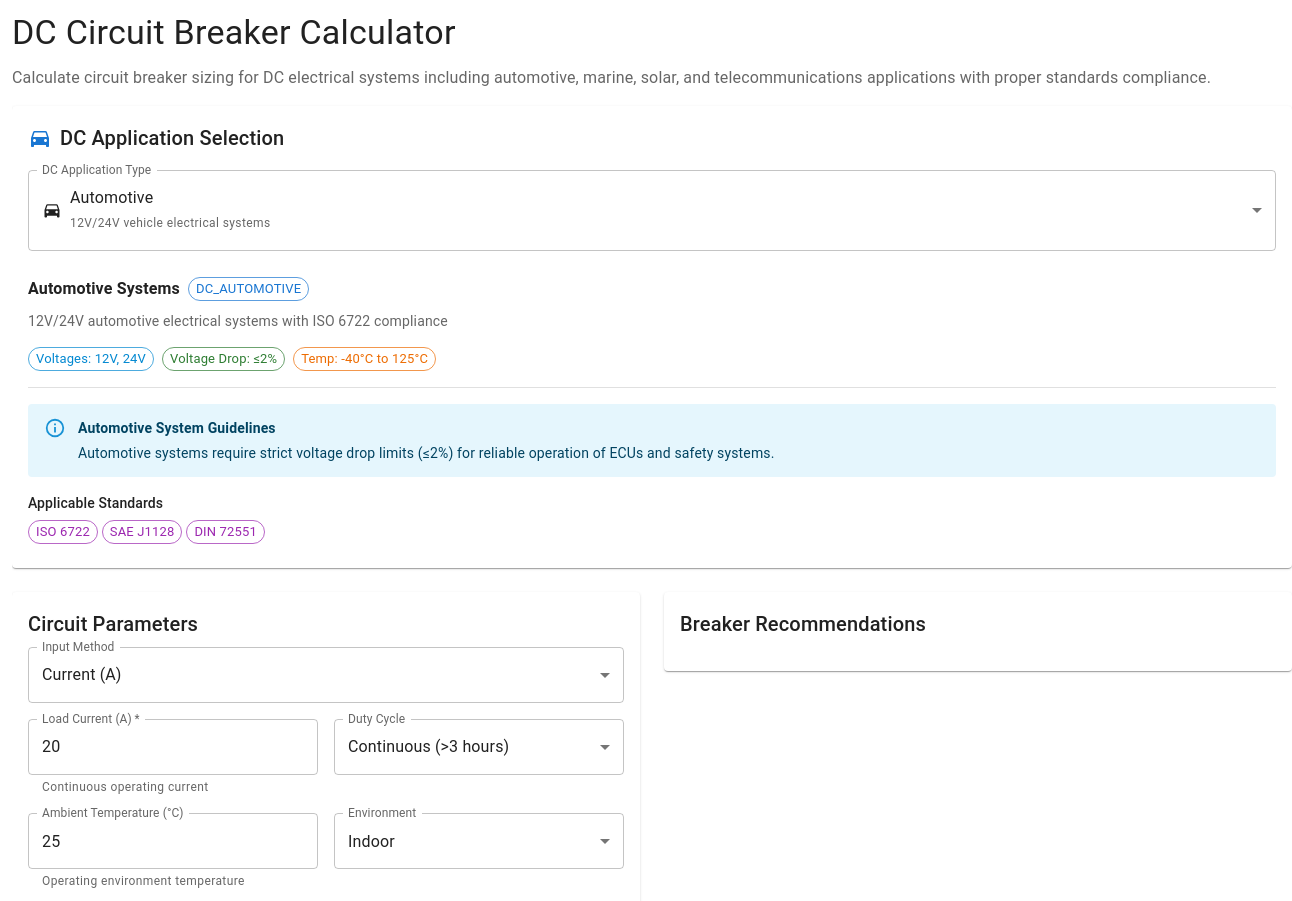
Test case: DC Breaker Calculator › Power-Based Input Method › should allow switching between input methods
The image size is (1292, 901).
Expected: the heading "DC Circuit Breaker Calculator" is shown, [12,12,456,52]
Expected: the text "Load Current (A)" is shown, [42,711,132,725]
Replace the text in the field labelled "Current (A)" with "power" at (326, 675), box [28,647,624,703]
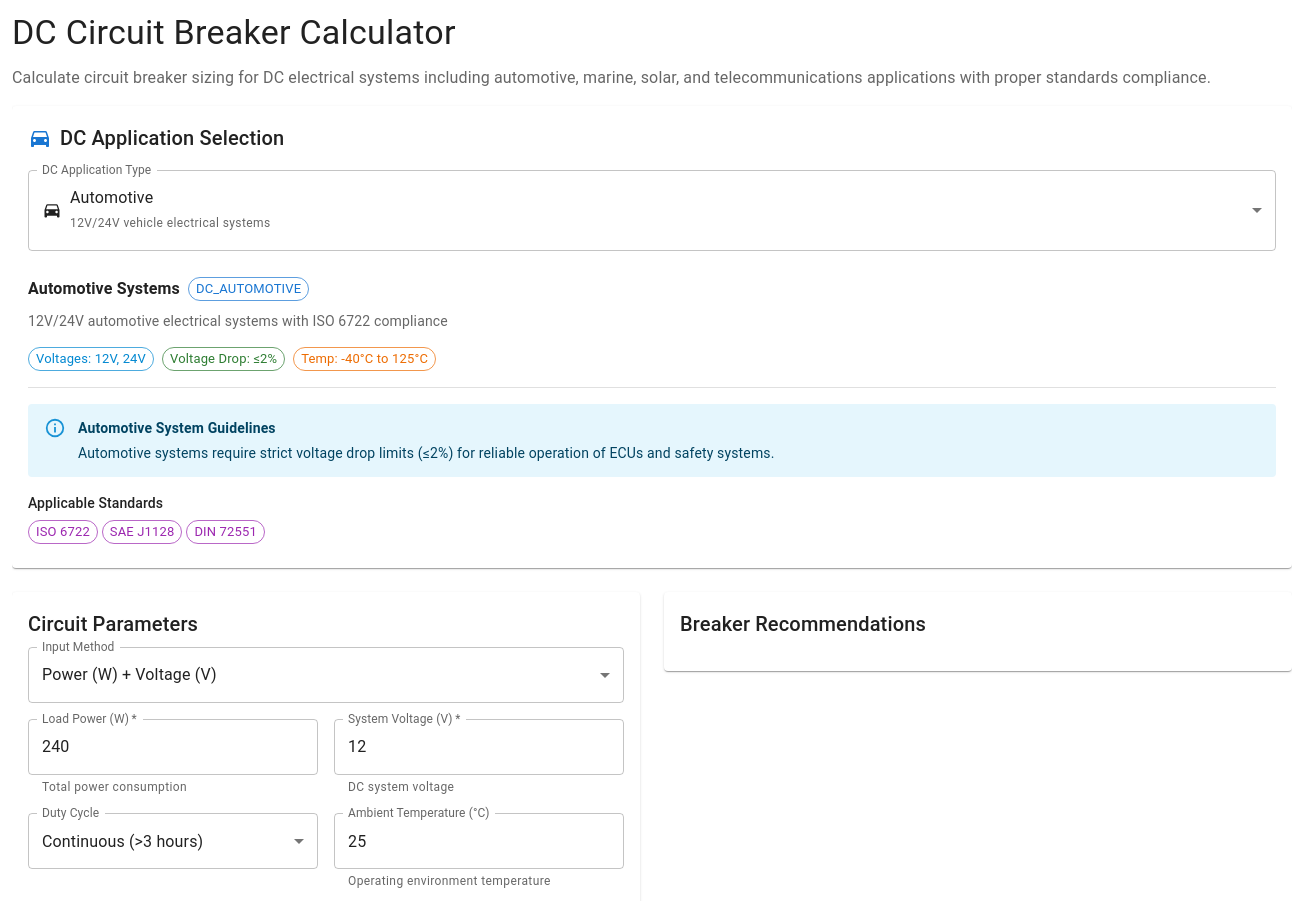
Now the text "Load Power (W)" is shown, box [42,711,129,725]
Now the text "System Voltage (V)" is shown, box [348,711,453,725]
Replace the text in the field labelled "Power (W) + Voltage (V)" with "current" at (326, 675), box [28,647,624,703]
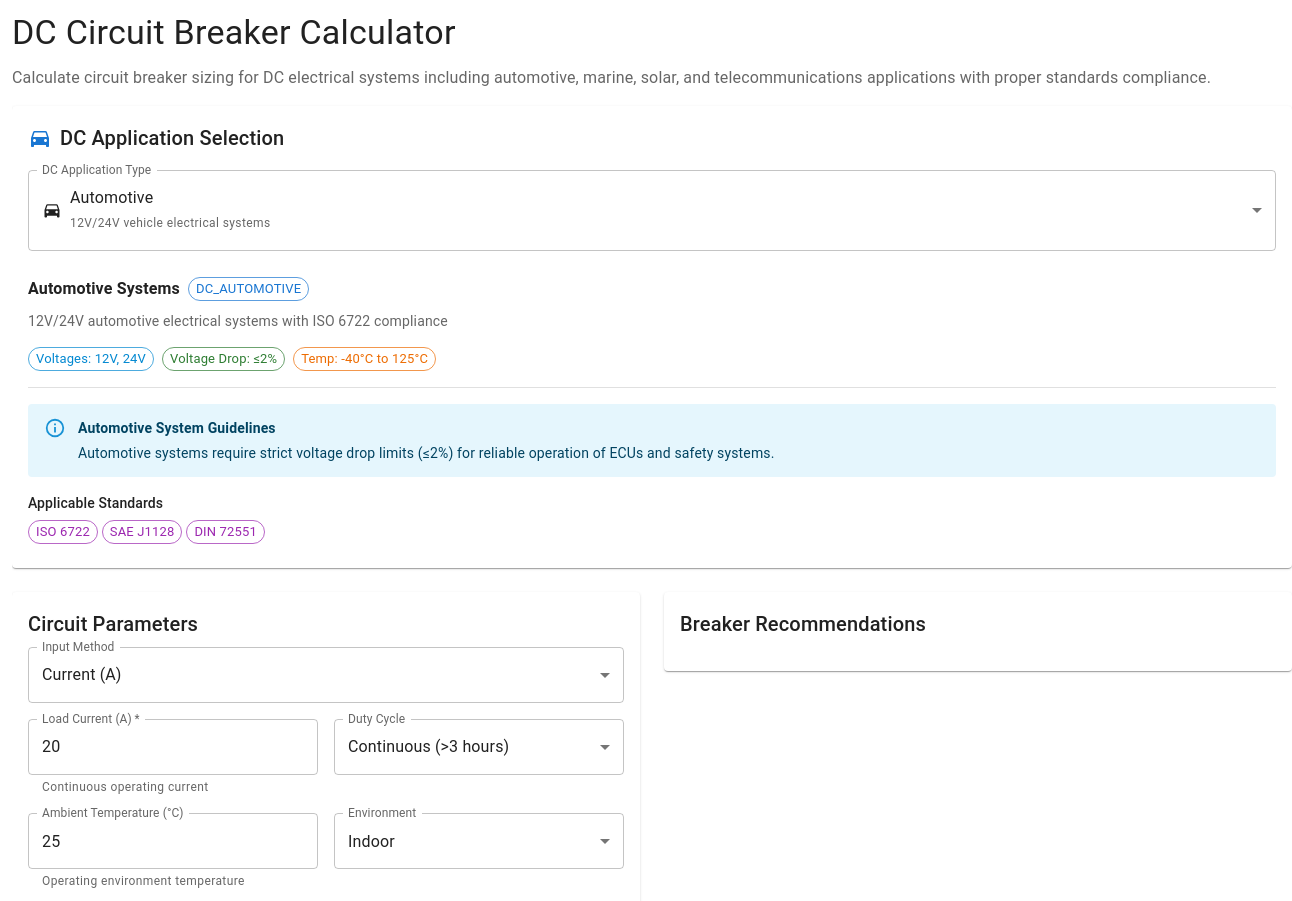
Now the text "Load Current (A)" is shown, box [42,711,132,725]
Now the text "Load Power (W)" is gone
